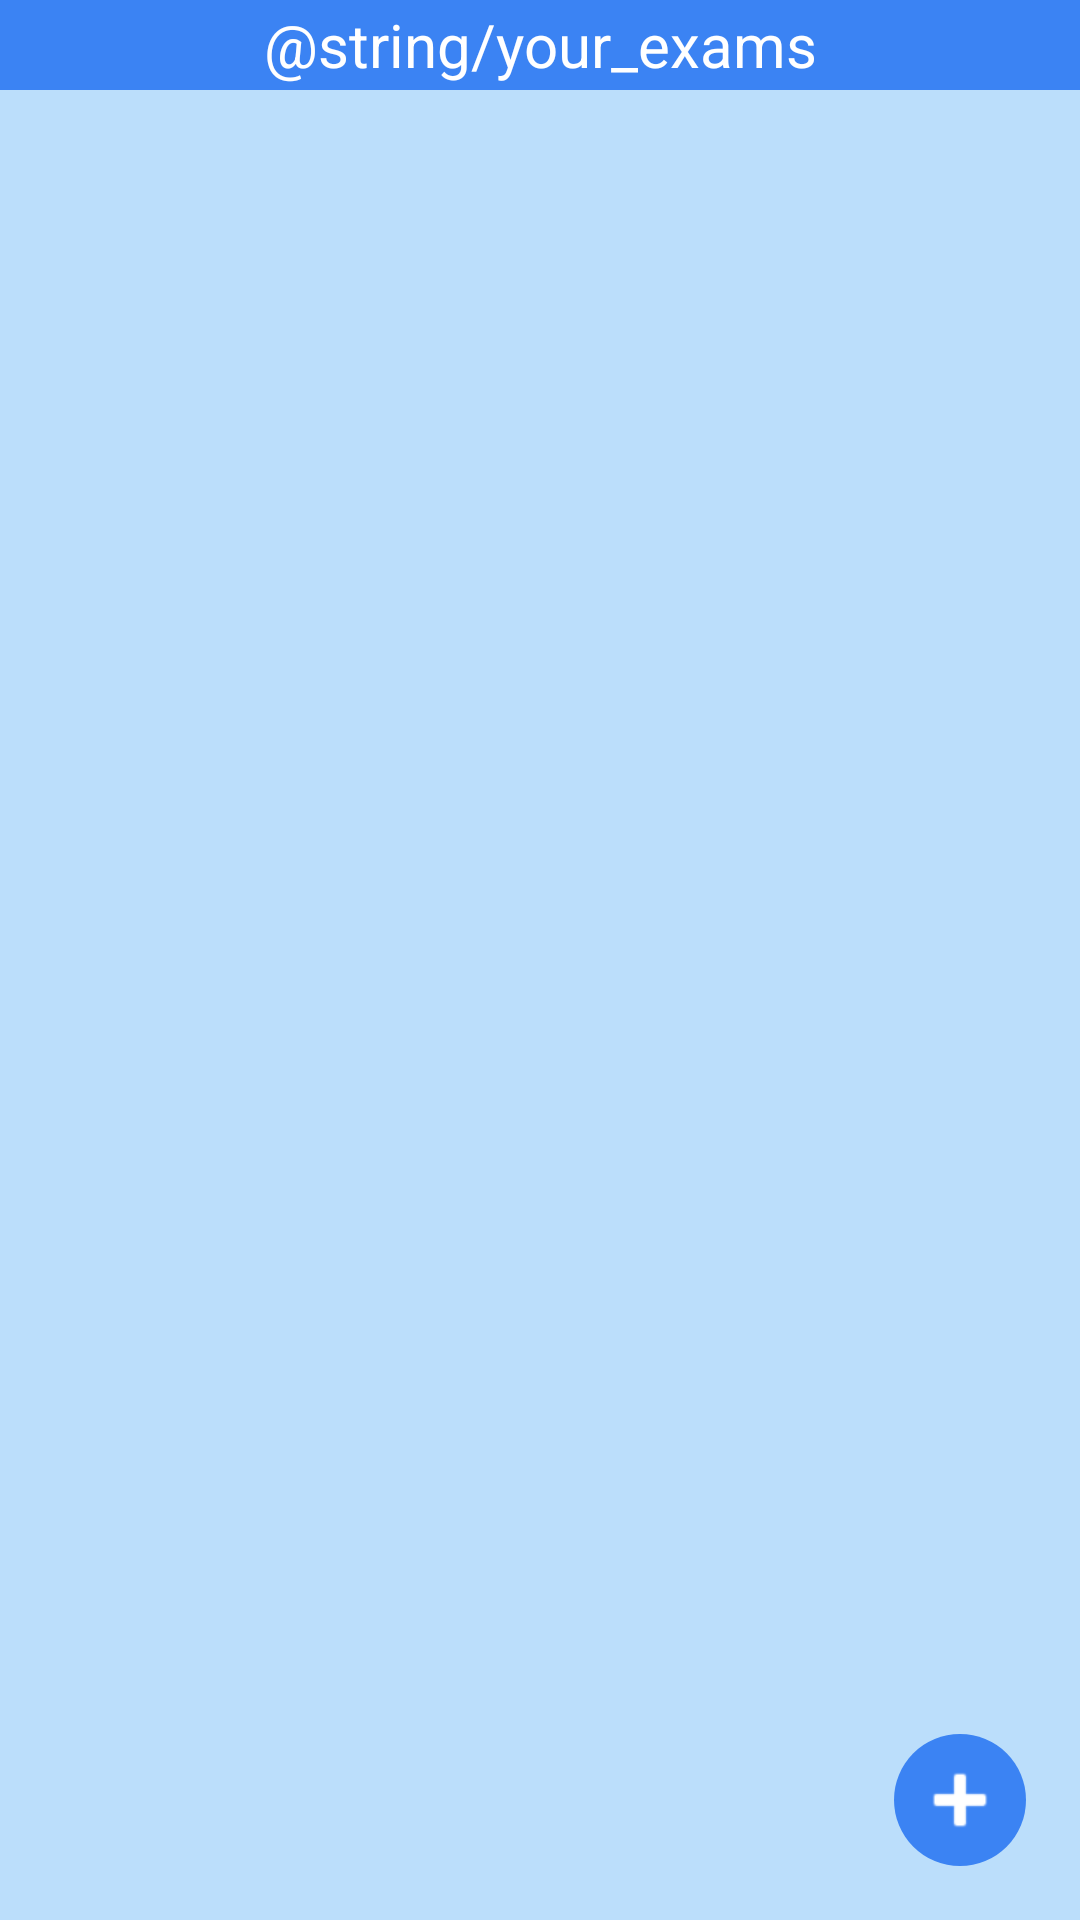

Locate icon controls on the screen. Image size 1080 × 1920, boxes as (x1, y1, x2, y2).
add: (894, 1734, 1026, 1866)
